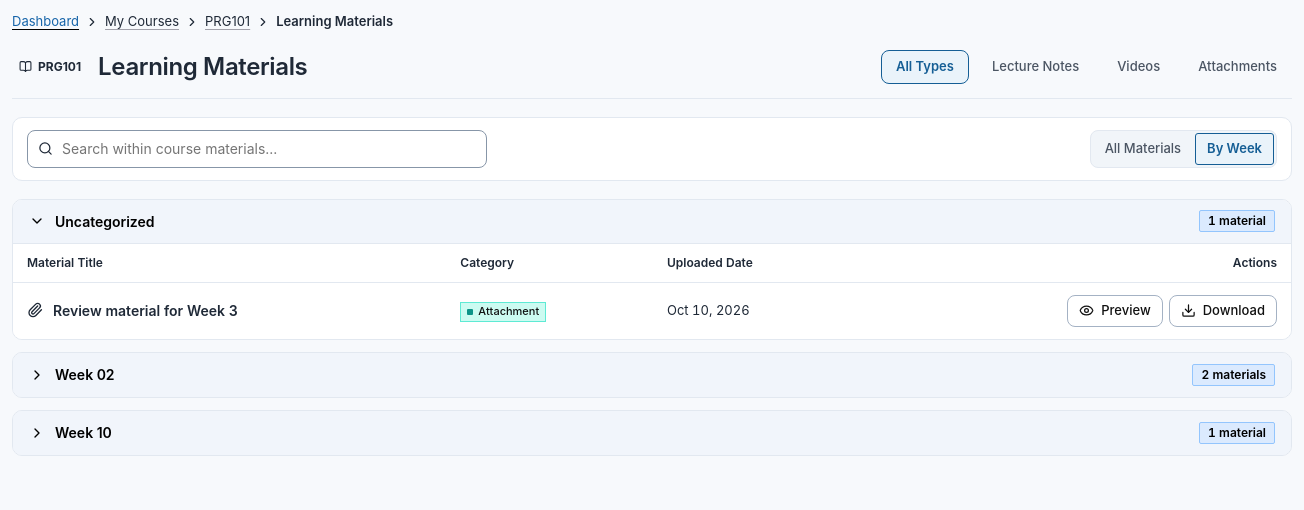
Test: Student Pages Integration › groups tagged course materials in numeric week order and opens filtered matches
Type "Functions" into the field with placeholder "Search within course materials...".
click(257, 148); type("Functions")  # box [27,130,487,168]
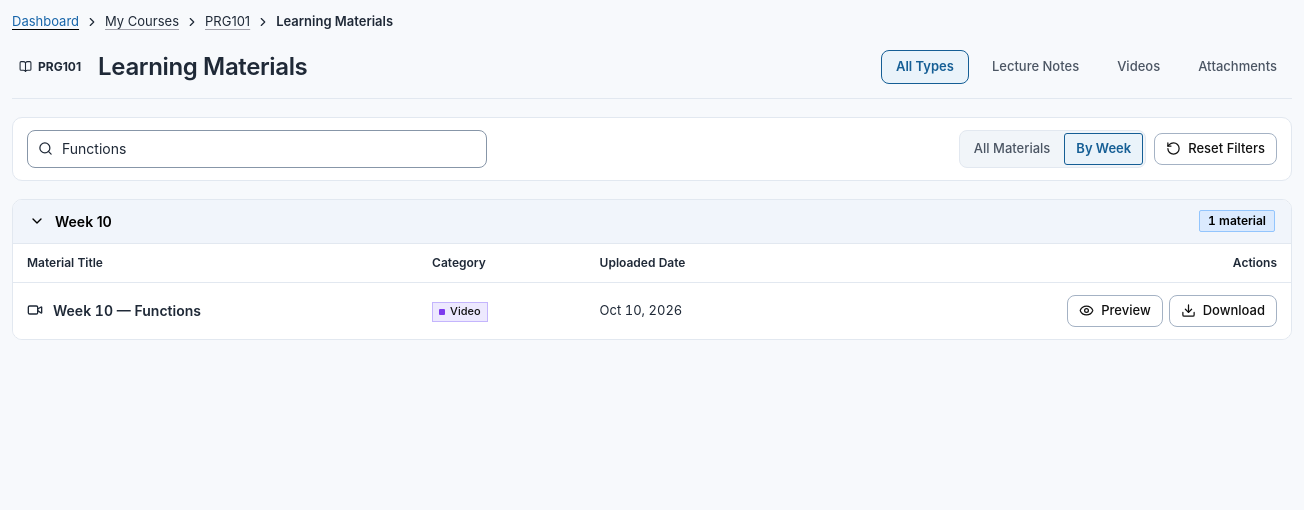
Click the button "Reset Filters".
click(1216, 148)  # box [1154,132,1277,164]
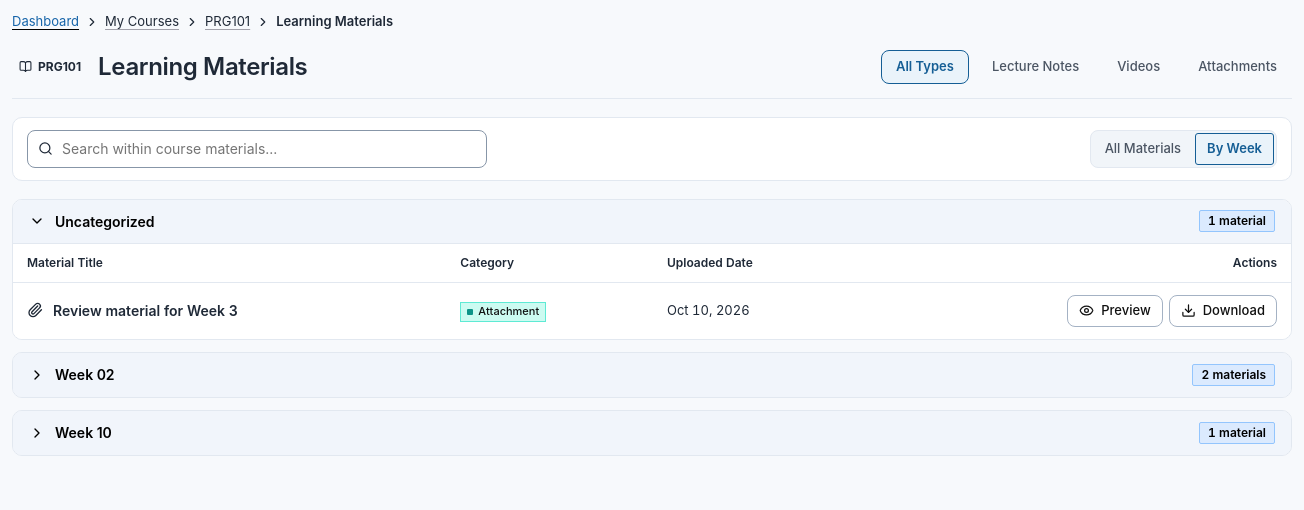
Click the button "Attachments".
click(1238, 66)  # box [1183,50,1292,84]
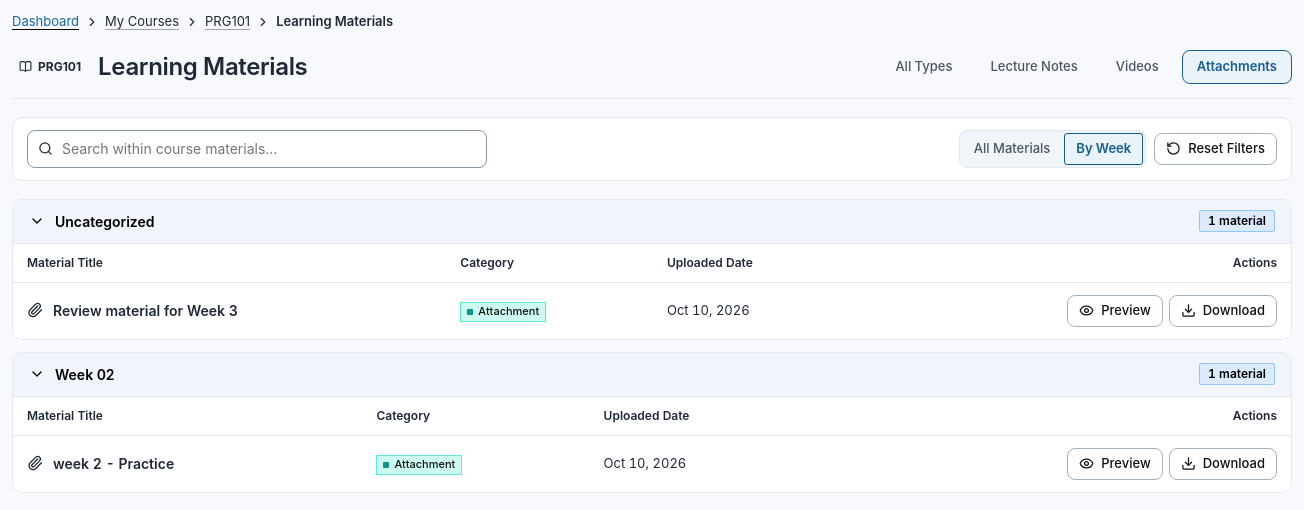
Check: the button "Review material for Week 3" is shown, box [53,300,238,321]
Check: the heading "Week 10" is gone
Click the button "All Materials".
click(1012, 148)  # box [962,132,1062,164]
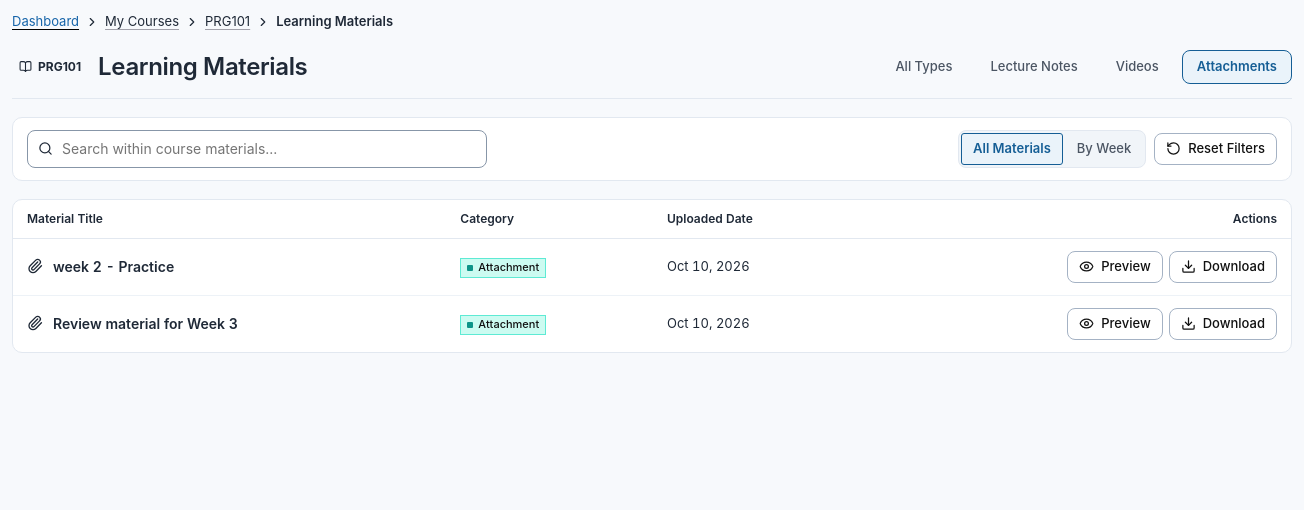
Check: the button "week 2 - Practice" is shown, box [53,256,174,277]
